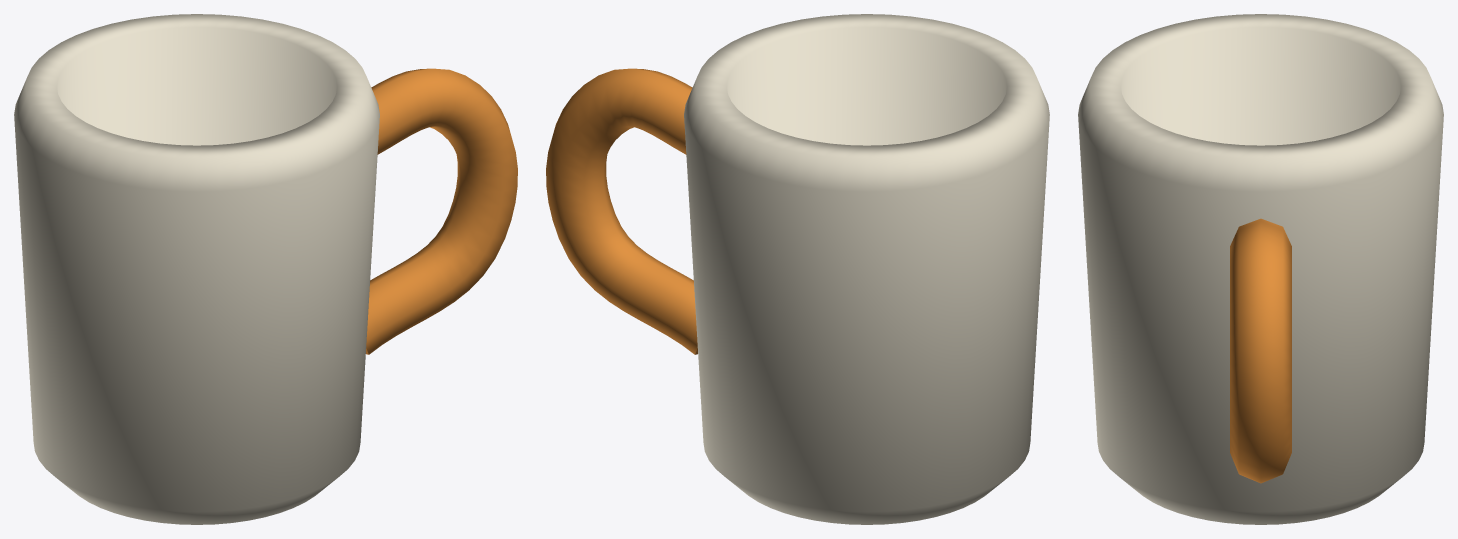
The model's file is mug.glb.
3 renders of one model, left to right at view 1: azimuth 30°, elevation 25°; view 2: azimuth 150°, elevation 25°; view 3: azimuth 270°, elevation 25°, orthographic.
Visible parts, largest first — view 1: mug / 20 / glazed cream ceramic, mug / 03 • ochre enamel; view 2: mug / 20 / glazed cream ceramic, mug / 03 • ochre enamel; view 3: mug / 20 / glazed cream ceramic, mug / 03 • ochre enamel.
Part boxes in pixels (<box>): mug / 20 / glazed cream ceramic: <box>14,14,379,524</box>; mug / 03 • ochre enamel: <box>366,68,517,354</box>; mug / 20 / glazed cream ceramic: <box>684,14,1049,524</box>; mug / 03 • ochre enamel: <box>546,68,697,354</box>; mug / 20 / glazed cream ceramic: <box>1078,14,1443,524</box>; mug / 03 • ochre enamel: <box>1230,218,1291,483</box>.
Size of the model in its own units: 0.1412 by 0.108 by 0.094.
